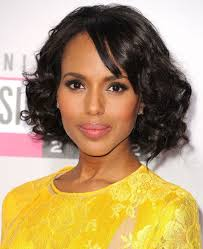black_female: (43, 1, 156, 157)
